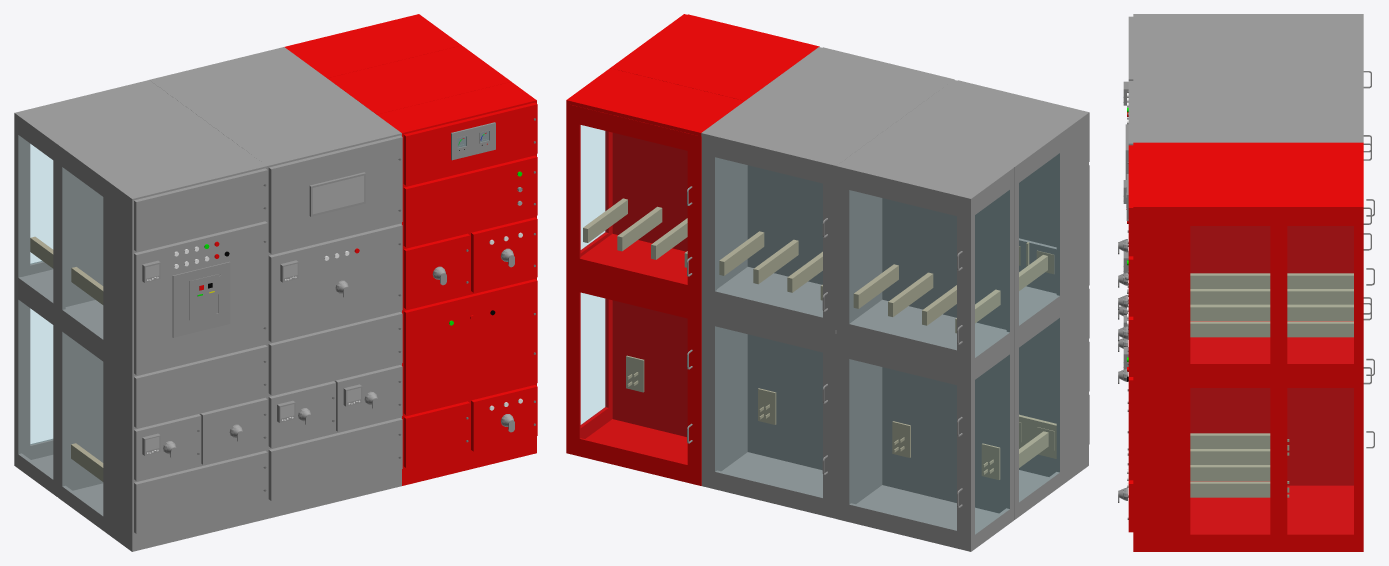
Rendered from room.glb.
The picture shows the model from 3 angles, left to right: view 1: azimuth 30°, elevation 25°; view 2: azimuth 150°, elevation 25°; view 3: azimuth 270°, elevation 25°; orthographic projection. The views are drawn at different scales.
Visible parts, largest first — view 1: product-4d6c6395-a769-4363-bfc7-adbf2ba43353-body; view 2: product-4d6c6395-a769-4363-bfc7-adbf2ba43353-body; view 3: product-4d6c6395-a769-4363-bfc7-adbf2ba43353-body.
Part boxes in pixels (left/top/right/bottom): product-4d6c6395-a769-4363-bfc7-adbf2ba43353-body: left=14, top=14, right=537, bottom=551; product-4d6c6395-a769-4363-bfc7-adbf2ba43353-body: left=566, top=14, right=1089, bottom=551; product-4d6c6395-a769-4363-bfc7-adbf2ba43353-body: left=1118, top=14, right=1374, bottom=551.
Bounding box in the file's own units: 2.4 × 2 × 1.35.
